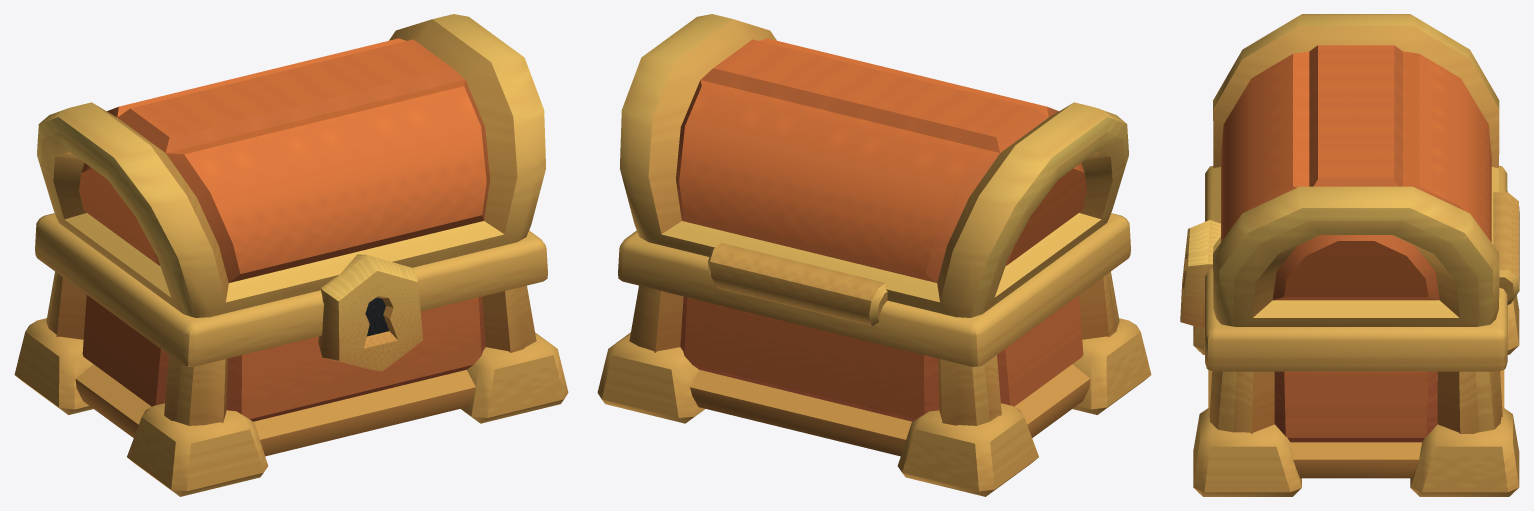
The model's file is Gems_Chest_Empty.gltf.
The picture shows the model from 3 angles, left to right: view 1: azimuth 30°, elevation 25°; view 2: azimuth 150°, elevation 25°; view 3: azimuth 270°, elevation 25°; orthographic projection. The views are drawn at different scales.
Visible parts, largest first — view 1: Gems_Chest_Empty_Lid, Gems_Chest_Empty; view 2: Gems_Chest_Empty_Lid, Gems_Chest_Empty; view 3: Gems_Chest_Empty_Lid, Gems_Chest_Empty.
Boxes of the visible parts, <box> form: Gems_Chest_Empty_Lid: <box>37,14,545,317</box>; Gems_Chest_Empty: <box>14,213,568,496</box>; Gems_Chest_Empty_Lid: <box>620,14,1128,326</box>; Gems_Chest_Empty: <box>597,213,1151,496</box>; Gems_Chest_Empty_Lid: <box>1213,14,1519,326</box>; Gems_Chest_Empty: <box>1180,165,1519,496</box>.
Size of the model in its own units: 1.55 by 1.11 by 1.13.
1 material, 1 textured.
